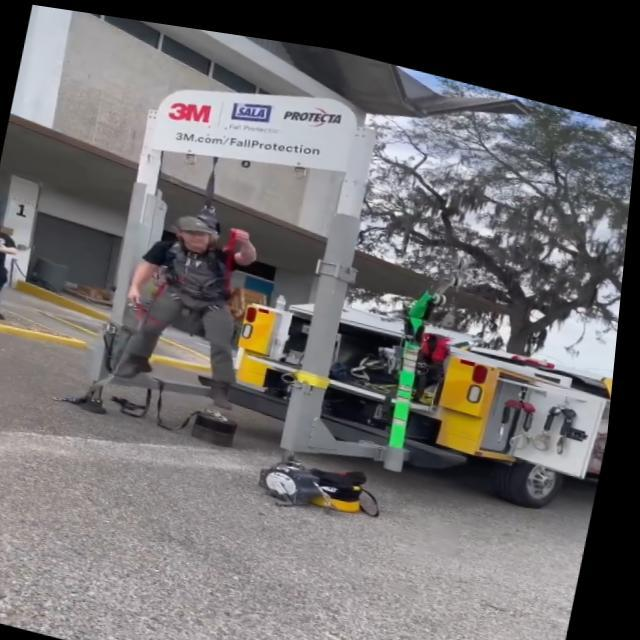belt: (130, 198, 275, 343)
